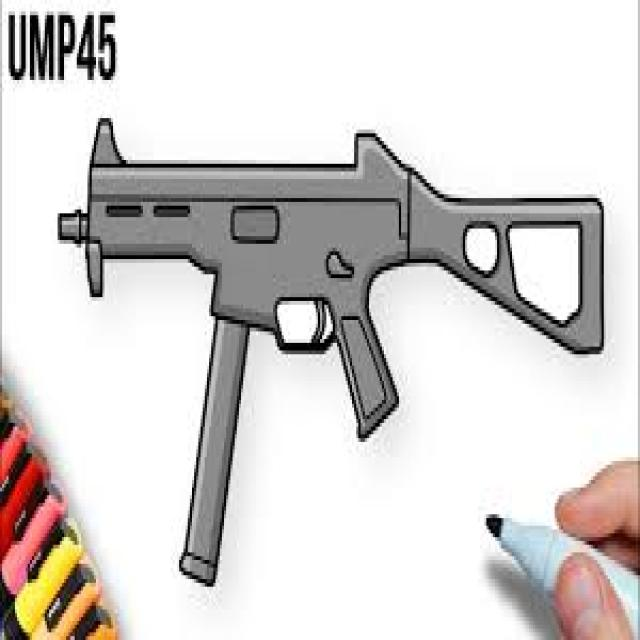Gun: (47, 98, 622, 603)
